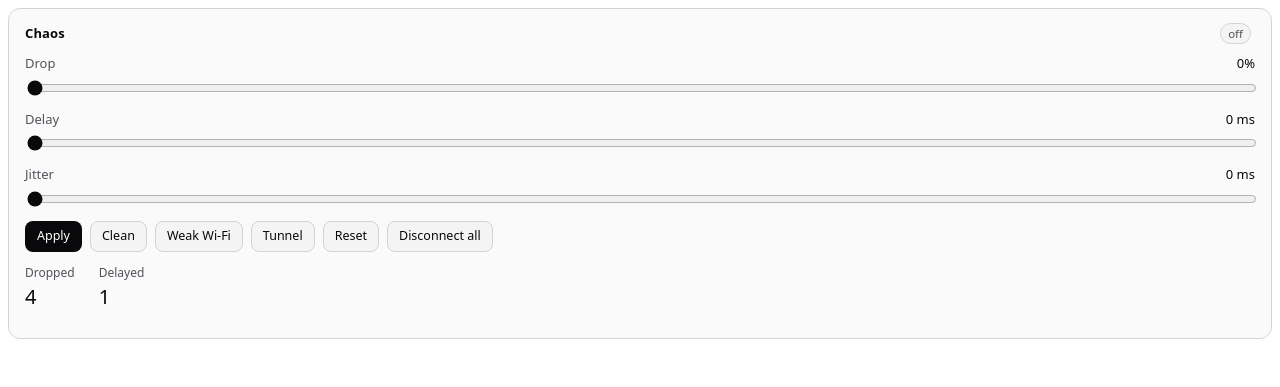
ChaosDropSimulator › sends the slider values, applies presets, resets, and can cut connections
The width and height of the screenshot is (1280, 387).
Expected: the text "4" is shown, [25,282,36,310]
Set the slider labelled "Drop 0%" to "30" at (399, 88), box [27,80,1257,96]
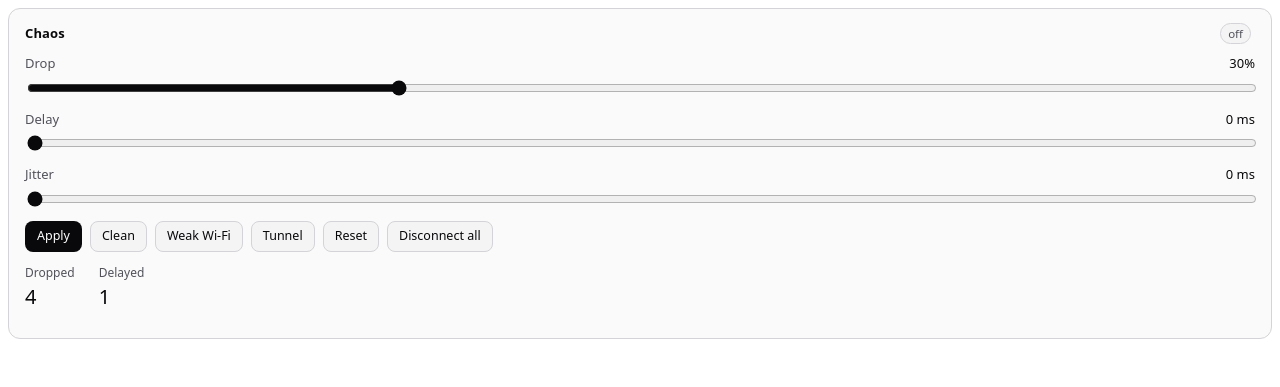
Click the button "Apply".
click(54, 236)  # box [25,221,82,252]
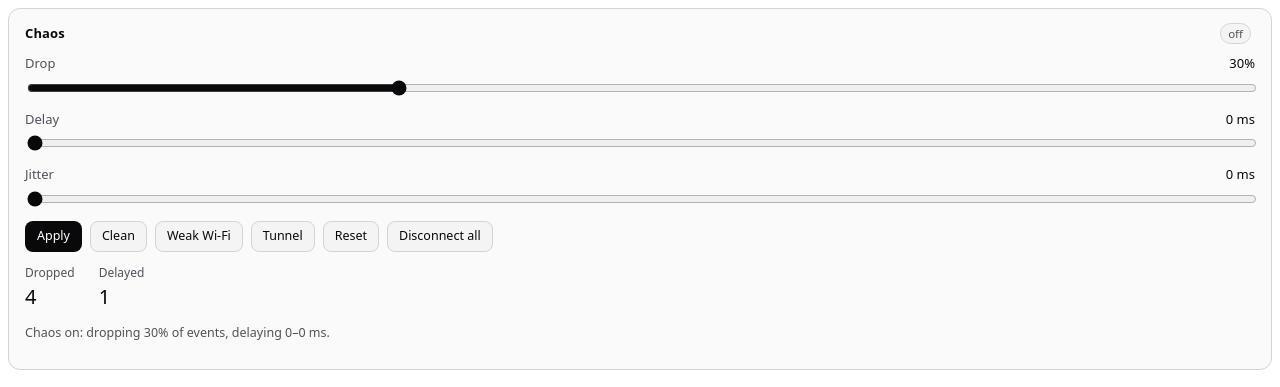
Expected: the message shows "dropping 30%", [25,324,330,341]
Click the button "Tunnel".
click(283, 236)  # box [251,221,315,252]
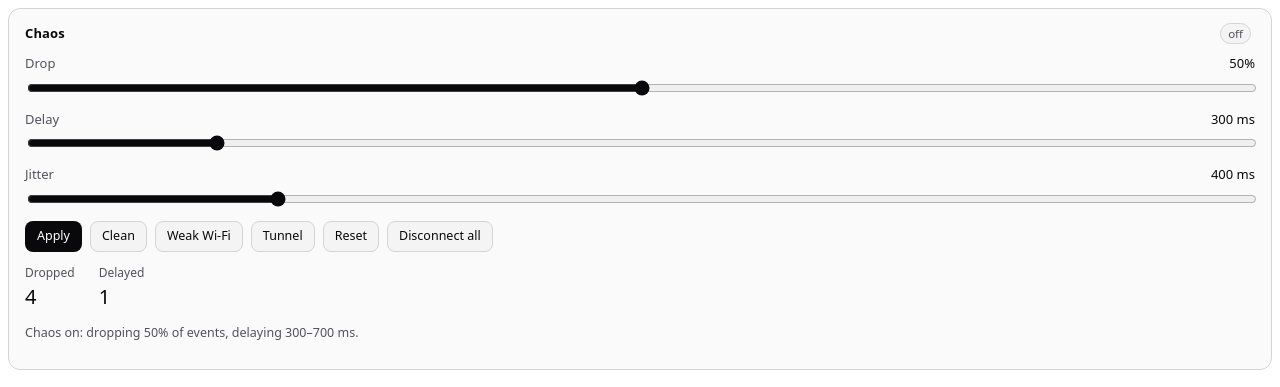
Expected: the message shows "dropping 50%", [25,324,358,341]
Click the button "Disconnect all".
click(440, 236)  # box [387,221,493,252]
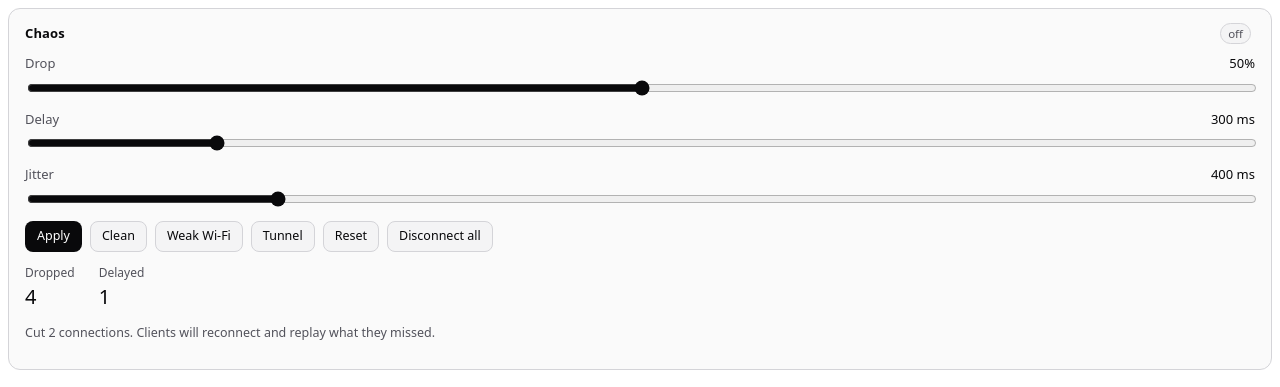
Expected: the message shows "Cut 2 connections", [25,324,435,341]
Click the button "Clean".
click(118, 236)  # box [90,221,147,252]
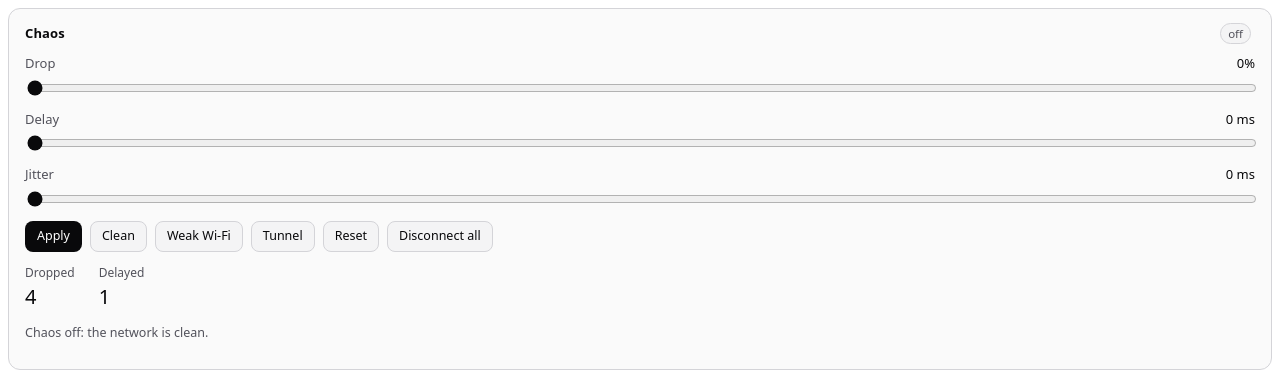
Expected: the message shows "Chaos off", [25,324,208,341]
